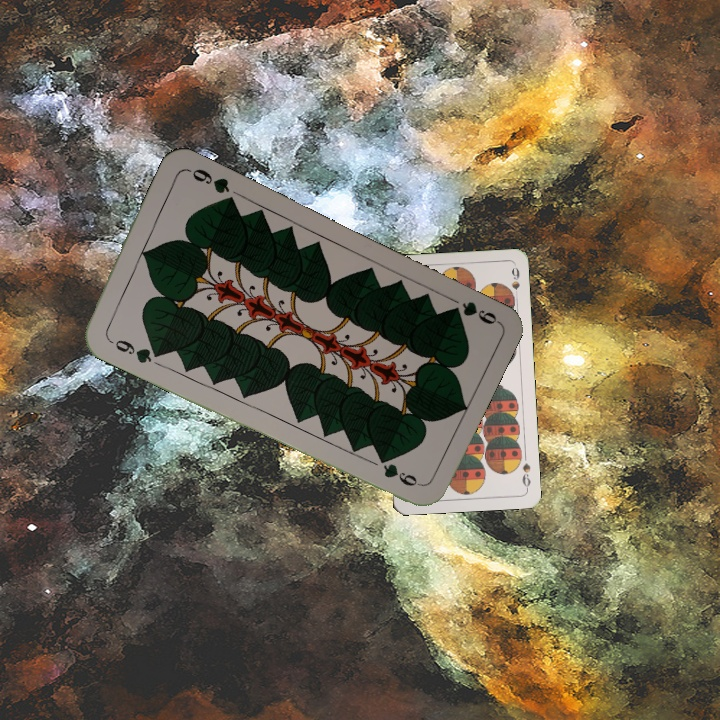G9: (104, 334, 162, 366), (447, 297, 500, 327)
S9: (518, 459, 533, 492)
